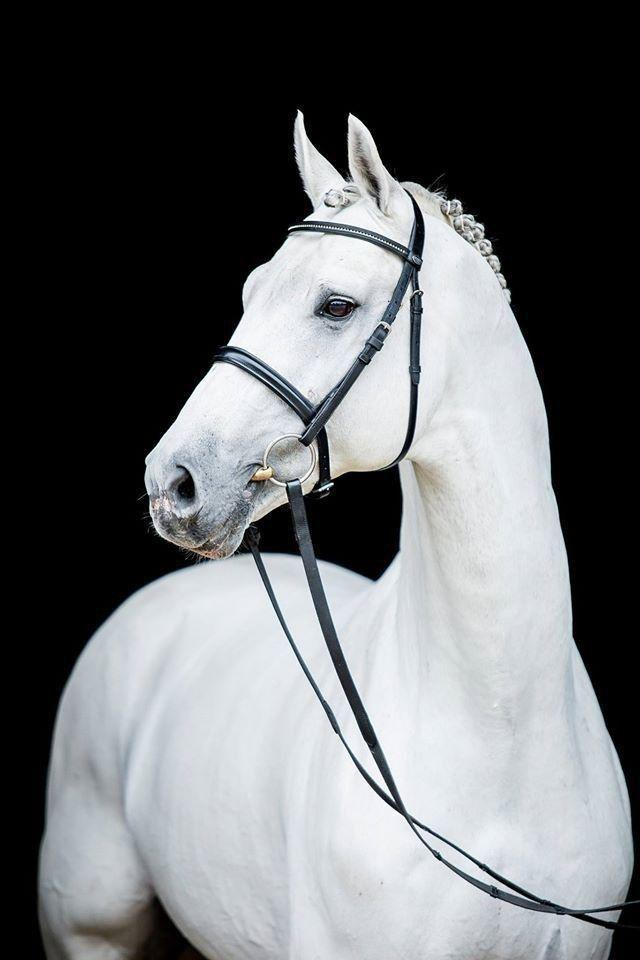horse: (36, 107, 634, 958)
